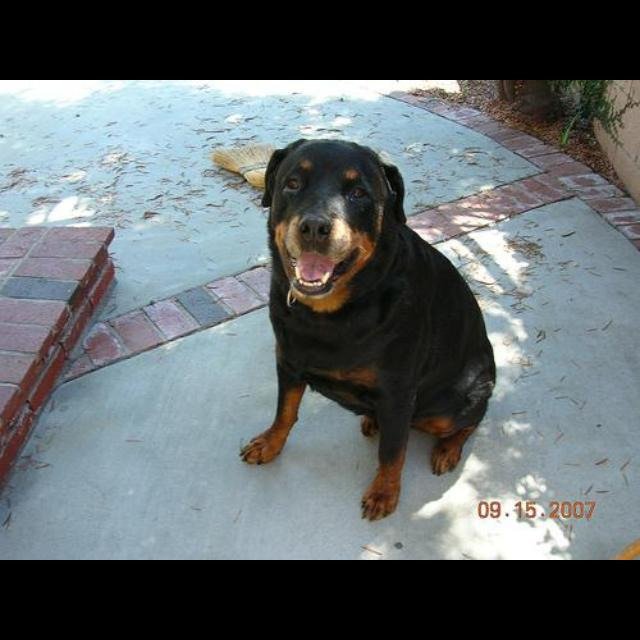rottweiler: (237, 138, 498, 523)
